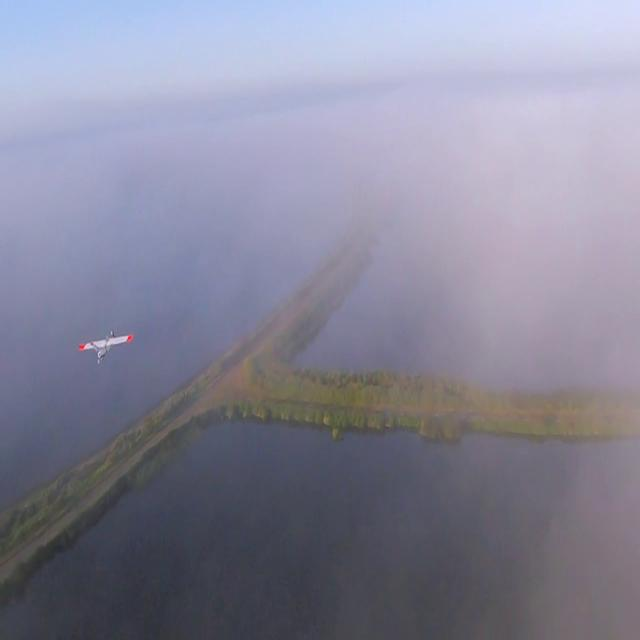iha: (14, 332, 70, 366)
